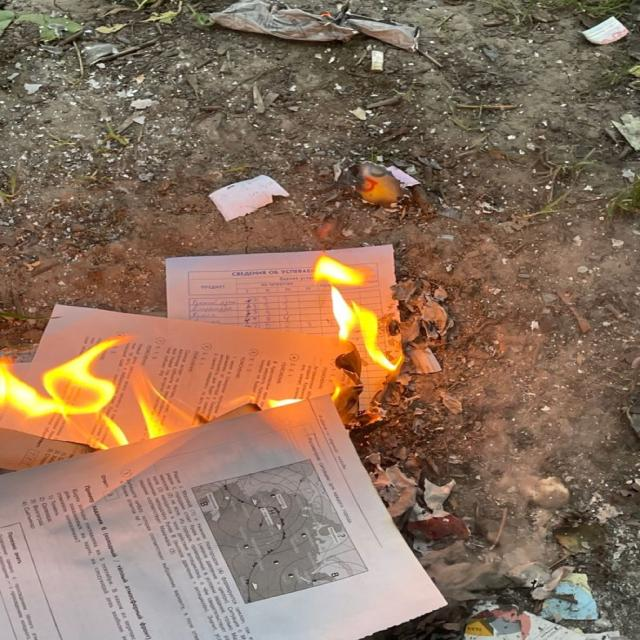fire: (0, 336, 204, 451), (314, 255, 397, 370)
